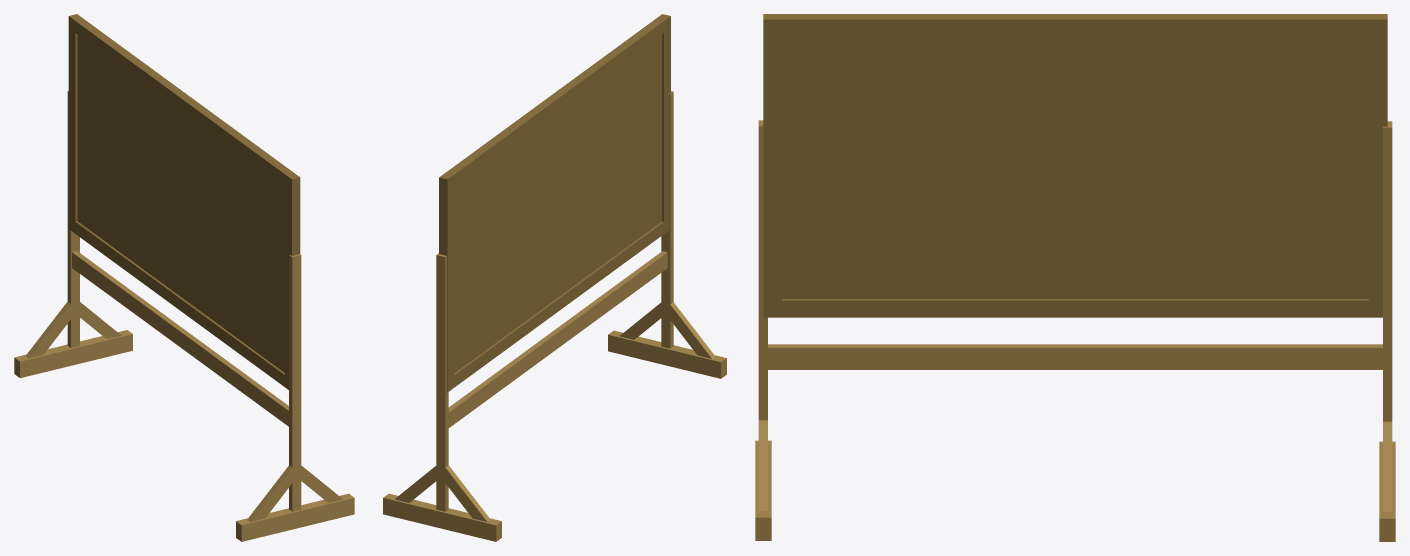
The model's file is chalkboard__72286e591df6.glb.
3 views of the same model, side by side, from view 1: azimuth 30°, elevation 25°; view 2: azimuth 150°, elevation 25°; view 3: azimuth 270°, elevation 25° (orthographic). The views are drawn at different scales.
Parts seen in each view (by area): view 1: panel, foot.001, foot, rail; view 2: panel, foot, foot.001, rail; view 3: panel, rail, foot, foot.001.
Boxes of the visible parts, bbox=[...] form: panel: bbox=[68, 14, 300, 389]; foot.001: bbox=[236, 254, 354, 541]; foot: bbox=[14, 91, 132, 378]; rail: bbox=[72, 251, 288, 426]; panel: bbox=[439, 14, 670, 392]; foot: bbox=[383, 253, 501, 541]; foot.001: bbox=[608, 91, 726, 378]; rail: bbox=[448, 251, 667, 427]; panel: bbox=[763, 14, 1387, 317]; rail: bbox=[768, 344, 1382, 369]; foot: bbox=[1379, 121, 1395, 541]; foot.001: bbox=[755, 120, 771, 540].
Size of the model in its own units: 0.434 by 1.26 by 1.5.
